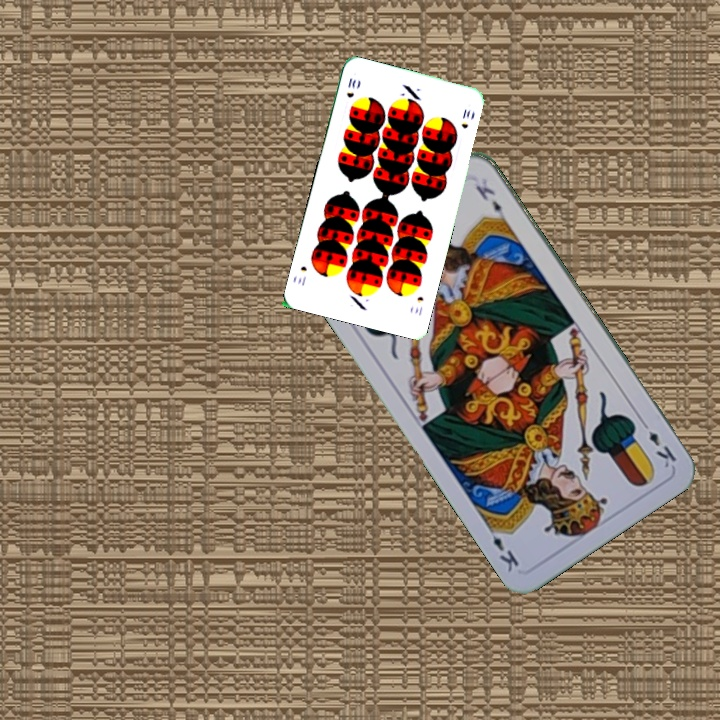EK: (636, 416, 680, 471)
S10: (342, 73, 359, 100), (411, 292, 426, 318)
